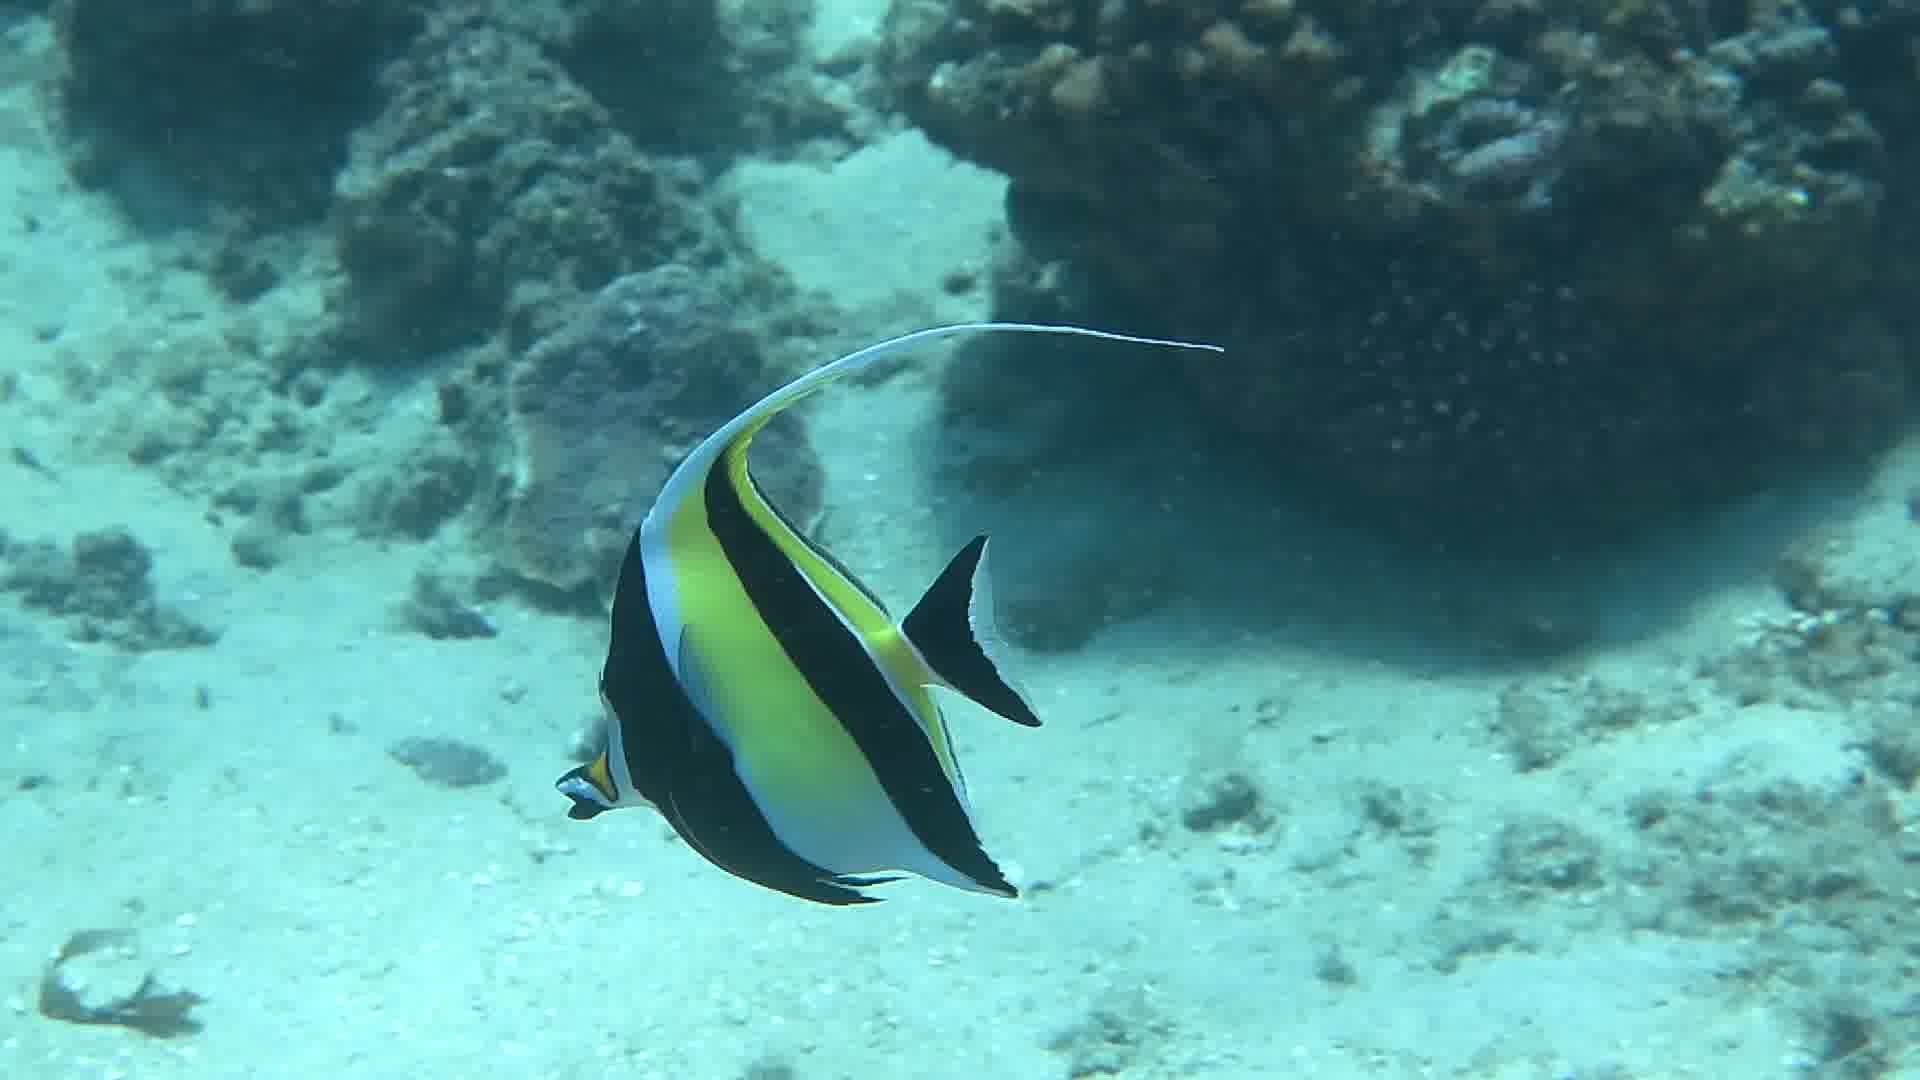Zanclus cornutus: (550, 376, 1106, 928)
